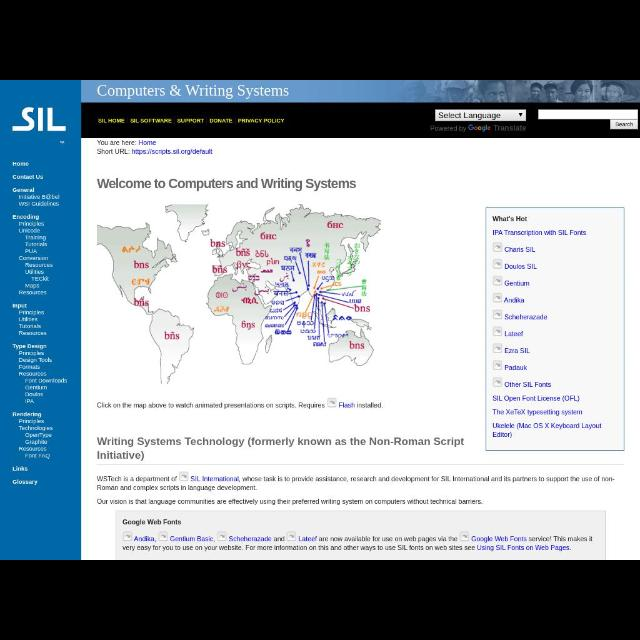backgroundimage: (407, 84, 639, 102)
image: (95, 201, 379, 373), (12, 105, 72, 147), (491, 258, 504, 270), (493, 342, 503, 353), (493, 308, 502, 320), (491, 243, 504, 251), (491, 328, 503, 336), (491, 361, 503, 369), (326, 398, 336, 407), (467, 126, 489, 130), (493, 276, 503, 284), (493, 294, 501, 302), (495, 377, 503, 385)
input: (540, 111, 638, 119)
link: (128, 148, 212, 156)
multitab: (84, 104, 304, 138)
panel: (0, 81, 81, 559)
spinner: (438, 111, 526, 119)
text: (96, 474, 616, 506), (120, 529, 598, 555), (97, 434, 469, 462), (94, 401, 382, 412), (98, 177, 358, 189), (96, 85, 290, 99), (492, 423, 602, 443), (492, 392, 580, 406), (492, 229, 586, 237), (491, 409, 583, 417), (492, 212, 528, 224), (121, 520, 181, 526), (96, 139, 156, 145), (502, 292, 526, 304), (506, 382, 552, 388), (12, 342, 46, 350), (10, 213, 42, 221), (504, 246, 536, 254), (130, 118, 172, 124), (241, 118, 283, 124), (505, 314, 547, 320), (95, 116, 125, 124), (210, 115, 234, 125), (26, 378, 66, 384), (429, 125, 467, 131), (504, 280, 532, 288), (18, 370, 46, 378), (26, 432, 52, 440), (98, 148, 130, 154), (13, 173, 45, 179), (20, 426, 52, 432), (494, 126, 526, 132), (24, 239, 48, 247), (507, 263, 538, 269), (17, 330, 48, 336), (11, 412, 41, 418), (16, 446, 46, 452), (18, 256, 48, 262), (18, 290, 48, 296), (176, 118, 204, 124), (20, 220, 48, 226), (26, 262, 54, 268), (20, 194, 60, 198), (10, 187, 36, 193), (24, 452, 50, 458), (504, 348, 530, 354), (20, 202, 58, 206), (19, 310, 43, 316), (505, 330, 523, 338), (19, 358, 53, 362), (22, 418, 44, 424), (20, 323, 42, 329), (25, 440, 47, 446), (18, 228, 40, 234), (13, 160, 29, 167), (12, 302, 26, 310), (19, 316, 37, 322), (12, 480, 38, 484), (24, 384, 50, 388), (32, 276, 48, 282), (20, 351, 42, 355), (24, 392, 46, 396), (506, 366, 528, 370), (14, 466, 28, 472), (25, 270, 45, 274), (28, 236, 46, 240), (22, 284, 40, 288), (23, 398, 34, 404), (24, 249, 38, 253), (16, 366, 42, 368)
textbutton: (614, 120, 636, 128)
toolbar: (82, 82, 640, 138)
